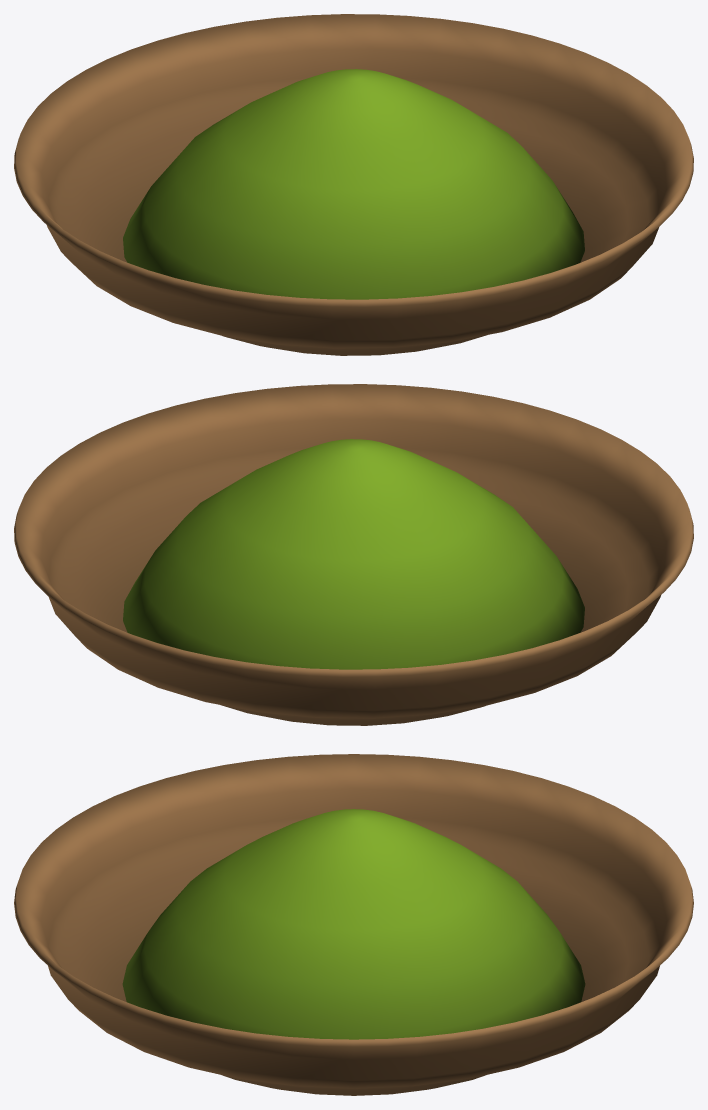
File: leaves.gltf
3 views of the same model, one above another, from view 1: azimuth 30°, elevation 25°; view 2: azimuth 150°, elevation 25°; view 3: azimuth 270°, elevation 25° (orthographic).
Parts seen in each view (by area): view 1: plate, leaves; view 2: plate, leaves; view 3: plate, leaves.
Boxes of the visible parts, x1,y1,x2,y2 form: plate: [14, 14, 693, 355]; leaves: [123, 69, 584, 299]; plate: [14, 384, 693, 725]; leaves: [123, 439, 584, 669]; plate: [14, 754, 693, 1095]; leaves: [122, 809, 585, 1039].
Size of what is drawn, in the model's own units: 0.542 by 0.1776 by 0.542.
Materials: 1 (1 with a texture image).
